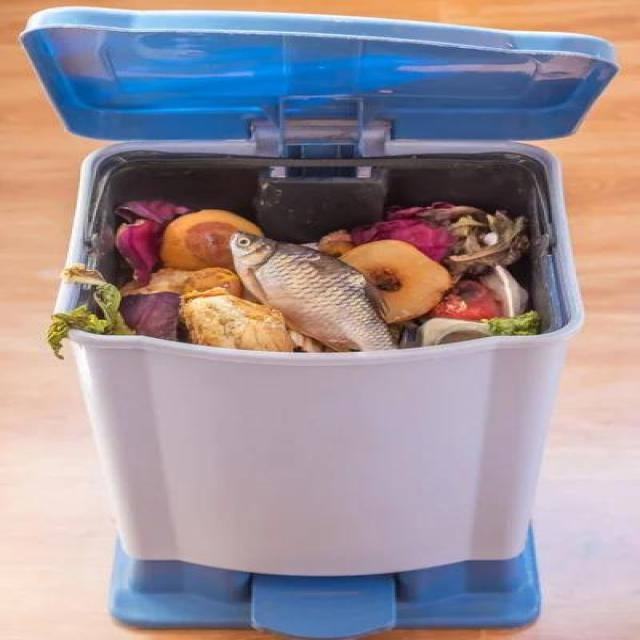Garbage: (72, 161, 542, 351)
